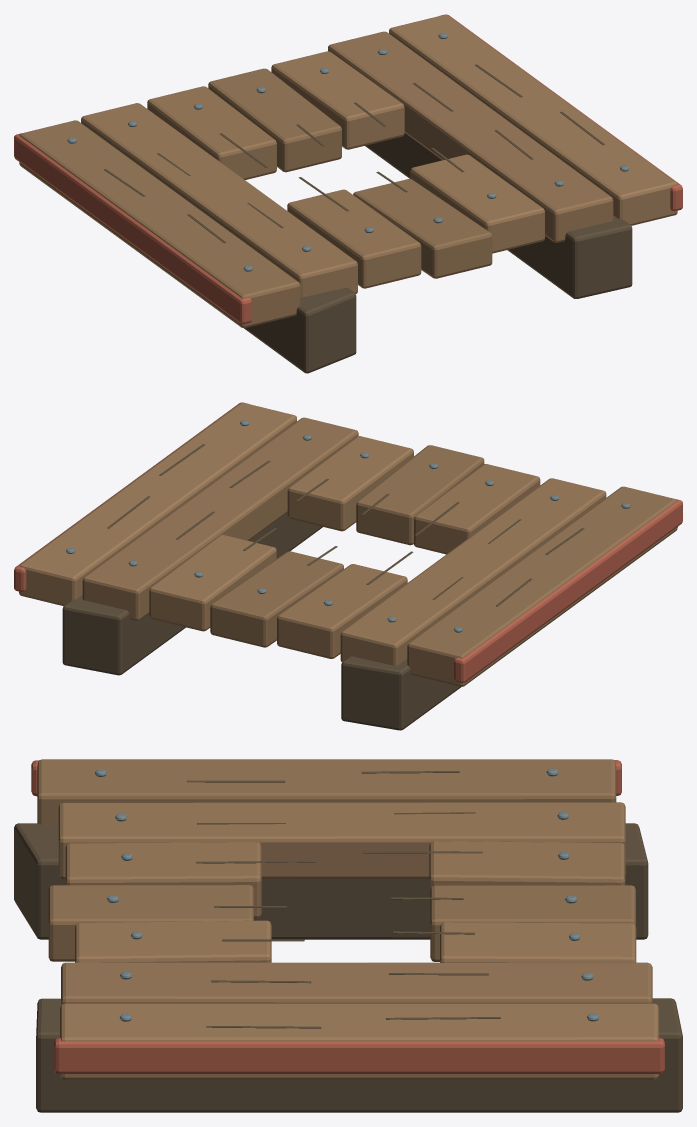
The model's file is deck-damaged-3.glb.
3 renders of one model, top to bottom at view 1: azimuth 30°, elevation 25°; view 2: azimuth 150°, elevation 25°; view 3: azimuth 270°, elevation 25°, orthographic. The views are drawn at different scales.
Parts seen in each view (by area): view 1: GEO-deck-damaged-540.002, GEO-deck-damaged-864.002, GEO-deck-damaged-108.002, GEO-deck-damaged-1148.002; view 2: GEO-deck-damaged-540.002, GEO-deck-damaged-864.002, GEO-deck-damaged-108.002, GEO-deck-damaged-1148.002; view 3: GEO-deck-damaged-540.002, GEO-deck-damaged-864.002, GEO-deck-damaged-108.002, GEO-deck-damaged-1148.002.
Part boxes in pixels (box(x1,y1,x2,y2)): GEO-deck-damaged-540.002: box(19, 15, 677, 327); GEO-deck-damaged-864.002: box(103, 64, 632, 373); GEO-deck-damaged-108.002: box(14, 14, 682, 324); GEO-deck-damaged-1148.002: box(67, 33, 629, 271); GEO-deck-damaged-540.002: box(19, 402, 677, 686); GEO-deck-damaged-864.002: box(62, 444, 584, 730); GEO-deck-damaged-108.002: box(14, 402, 682, 683); GEO-deck-damaged-1148.002: box(66, 420, 630, 632); GEO-deck-damaged-540.002: box(37, 759, 658, 1080); GEO-deck-damaged-864.002: box(14, 771, 682, 1112); GEO-deck-damaged-108.002: box(31, 760, 664, 1073); GEO-deck-damaged-1148.002: box(95, 768, 599, 1021).
Bounding box in the file's own units: 2.28 × 0.4393 × 2.27.
